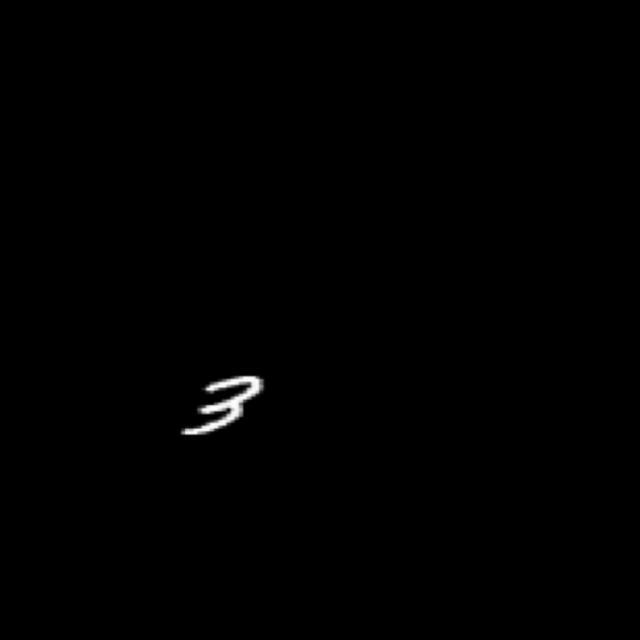three -3-: (170, 366, 279, 450)
